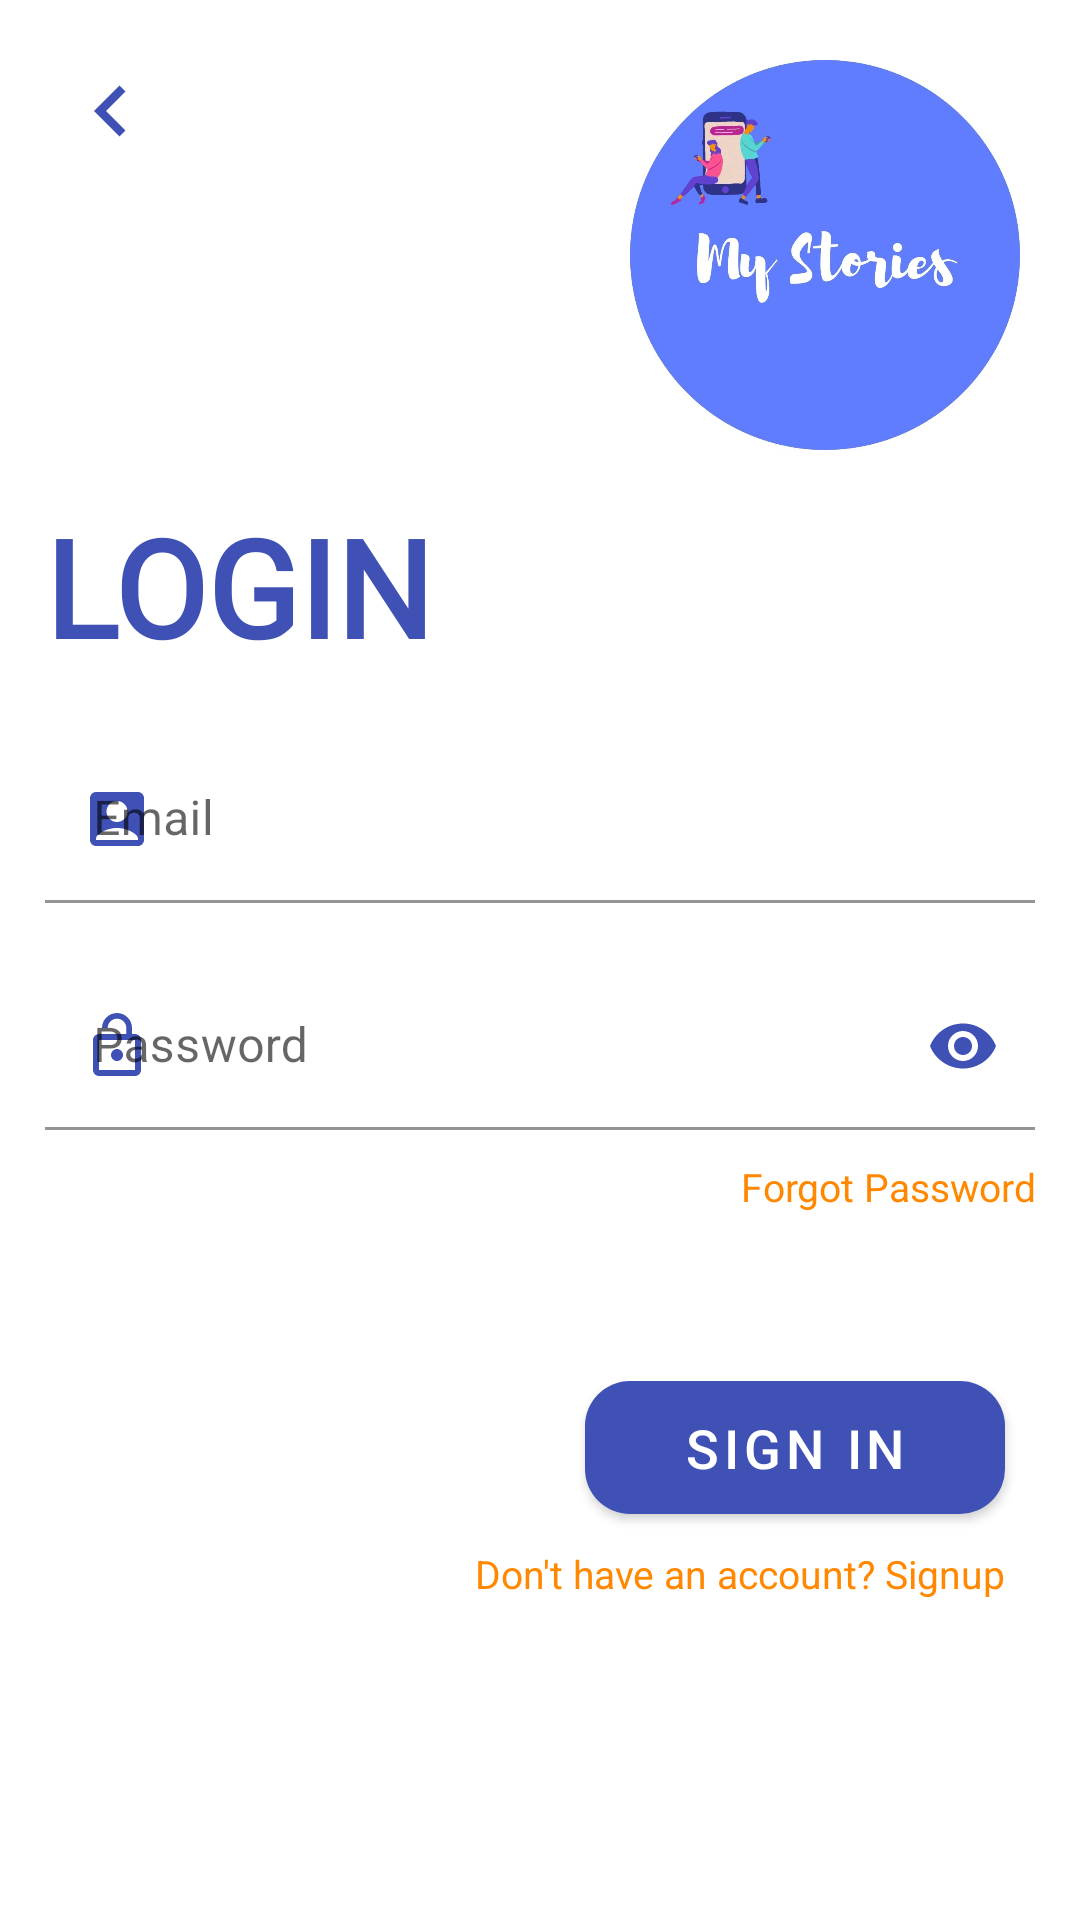

Named icons in this screenshot (1080 x 1920) and their bounding boxes, (x1=x1, y1=y1, x2=x2, y2=y2):
leftarrow: (x1=94, y1=85, x2=126, y2=137)
